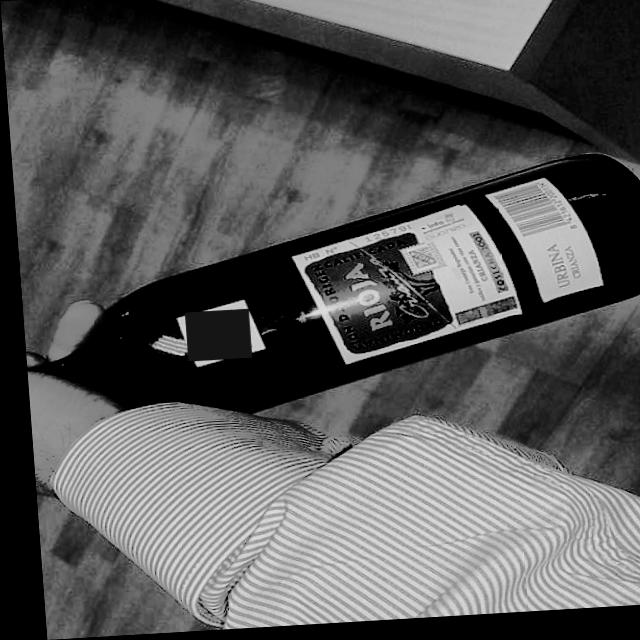qr_code: (180, 311, 247, 363)
